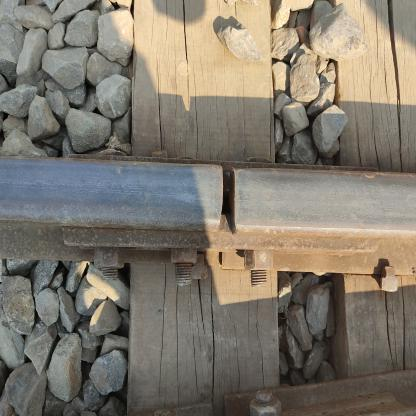Defective 2: (193, 160, 258, 242)
Defective 3: (58, 212, 382, 290)
